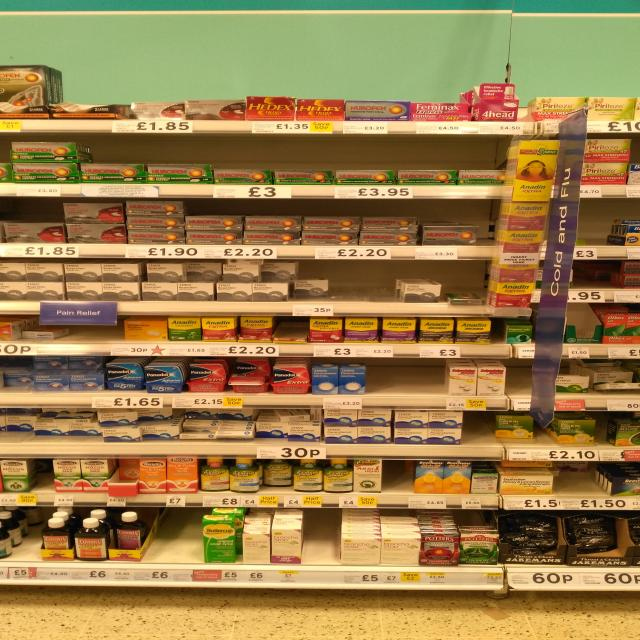unorganised: (563, 513, 620, 553), (497, 413, 536, 445), (115, 511, 144, 552), (226, 370, 268, 394), (261, 458, 294, 487), (216, 417, 255, 439), (4, 412, 41, 435), (181, 417, 218, 440), (294, 277, 331, 299), (111, 458, 140, 481), (36, 418, 71, 437), (65, 417, 99, 436), (92, 413, 139, 426), (274, 409, 312, 423), (140, 407, 177, 421), (5, 369, 33, 386), (256, 421, 283, 438)
